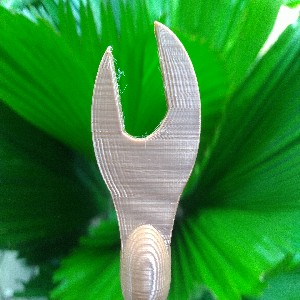spanner: (90, 20, 202, 300)
